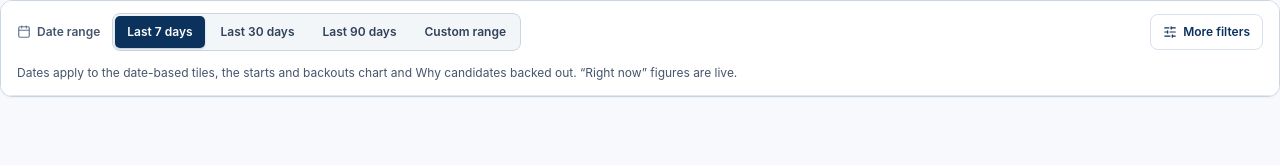
Analytics Components Test Suite › does not apply a custom range longer than 366 days, counting both ends, and links the error to both dates
This screenshot has width=1280, height=165.
Step 1. Click the button "Custom range" → [465, 32], box [412,16,518,48]
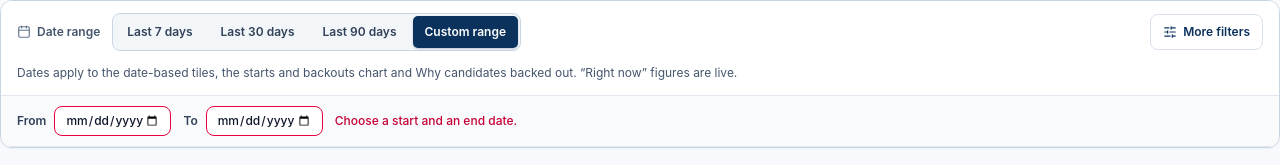
2024 is a leap year: 2024-01-01 to 2024-12-31 is exactly 366 days counting both ends, which is allowed.
Step 2. Type "2024-01-01" into the date field labelled "From" → [113, 120], box [54,106,171,136]
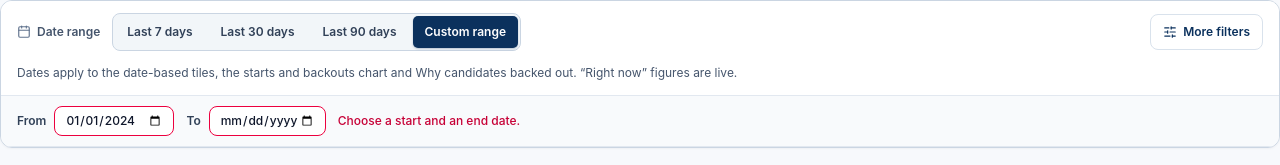
Step 3. Type "2024-12-31" into the date field labelled "To" → [267, 120], box [209,106,326,136]
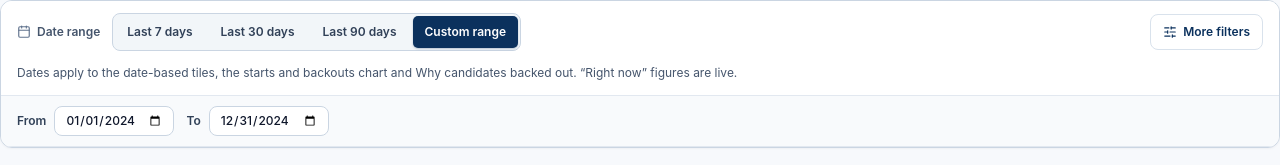
Step 4. Type "2025-01-01" into the date field labelled "To" → [269, 120], box [209,106,329,136]
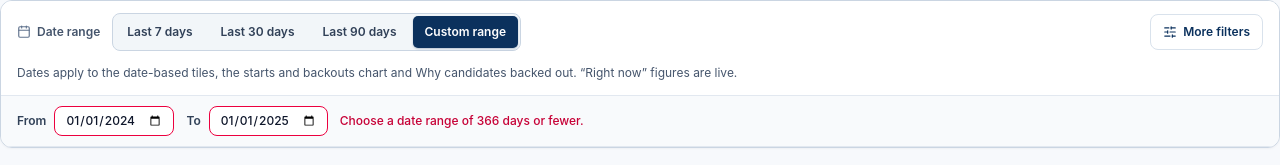
Expected: the message shows "Choose a date range of 366 days or fewer", [340,112,584,128]
